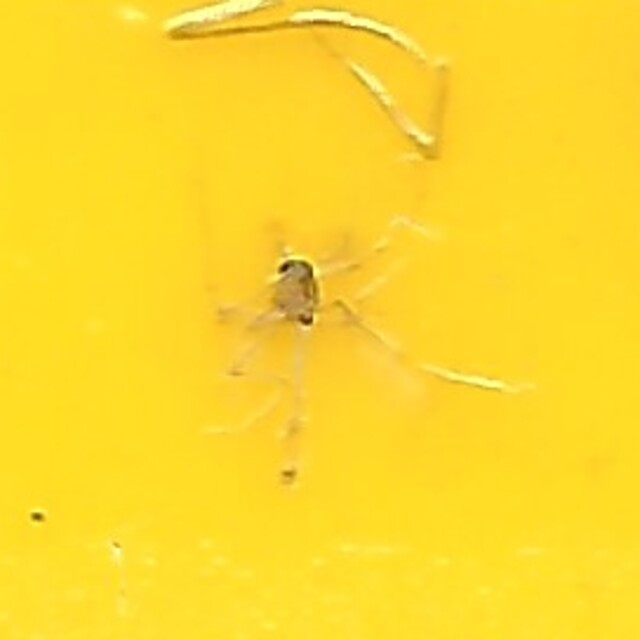Nematocera: (235, 236, 405, 404)
